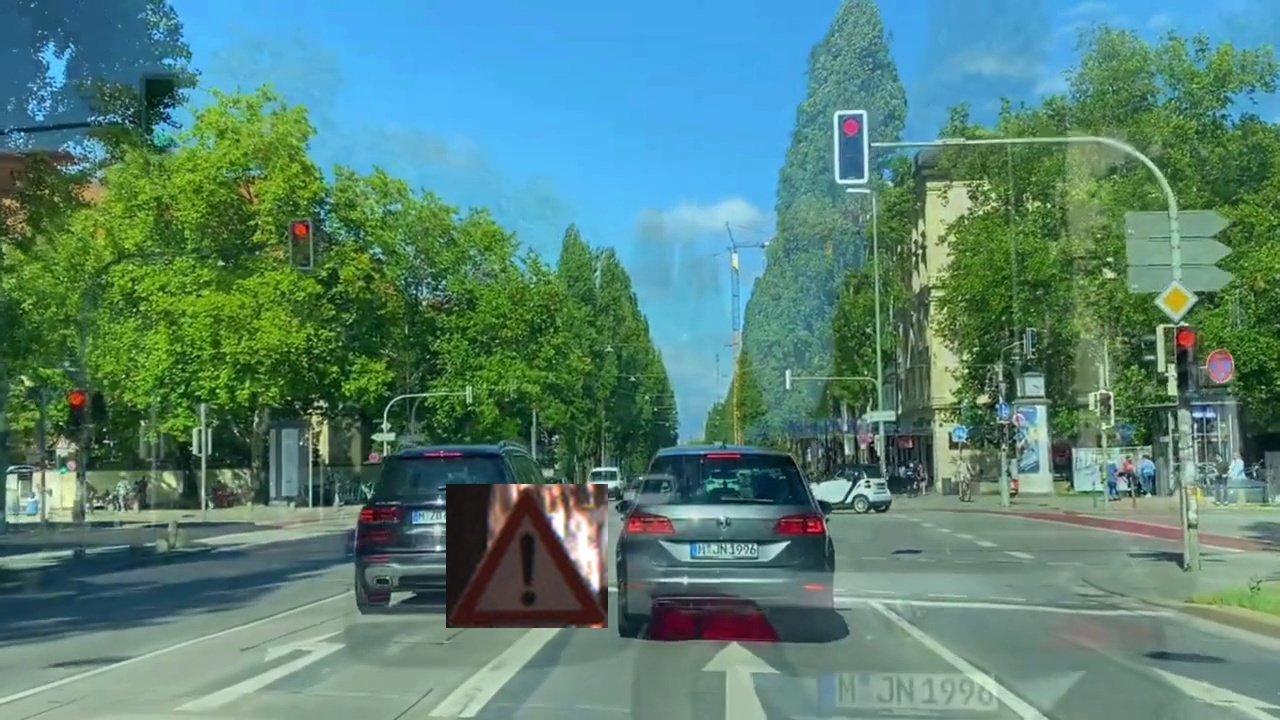Caution: (446, 484, 608, 628)
